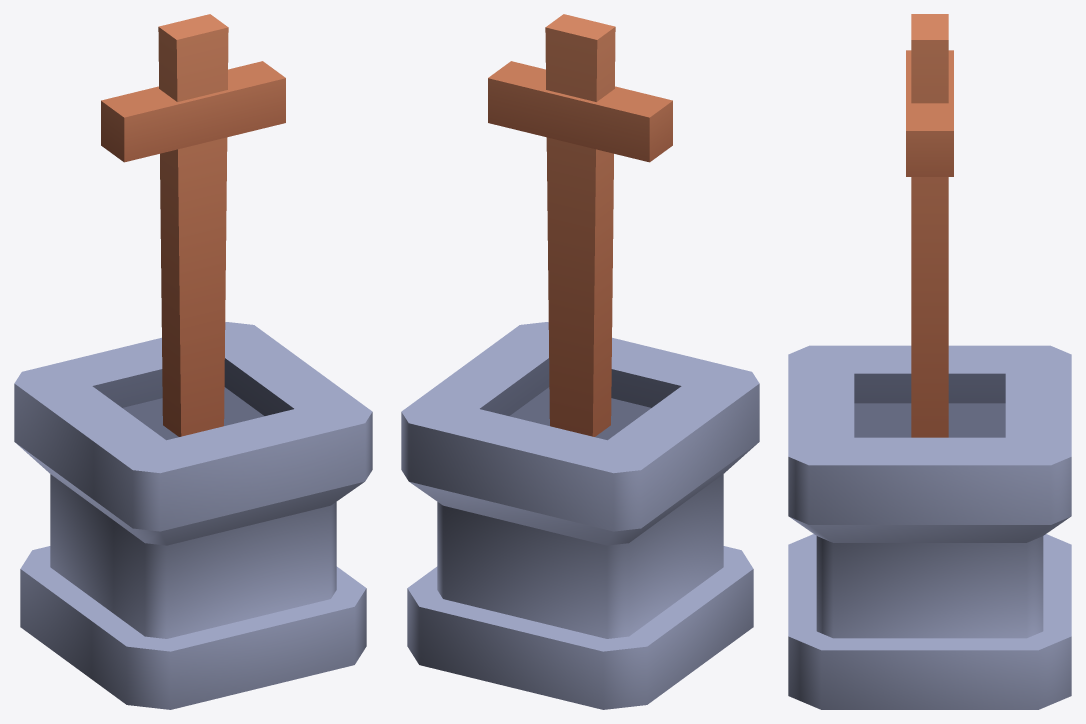
File: cross-wood_lev3.glb
3 views of the same model, side by side, from view 1: azimuth 30°, elevation 25°; view 2: azimuth 150°, elevation 25°; view 3: azimuth 270°, elevation 25° (orthographic). The views are drawn at different scales.
Parts seen in each view (by area): view 1: cross-wood_lev3; view 2: cross-wood_lev3; view 3: cross-wood_lev3.
Part boxes in pixels (x1,y1,x2,y2): cross-wood_lev3: [14, 14, 372, 709]; cross-wood_lev3: [401, 14, 759, 709]; cross-wood_lev3: [788, 14, 1071, 709].
Size of the model in its own units: 6.45 by 15.67 by 6.45.
Materials: 1 (1 with a texture image).
